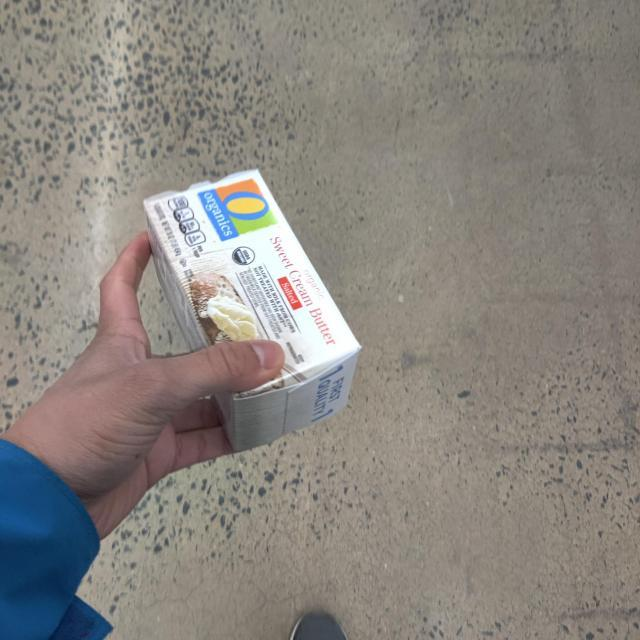Butter: (129, 164, 381, 462)
